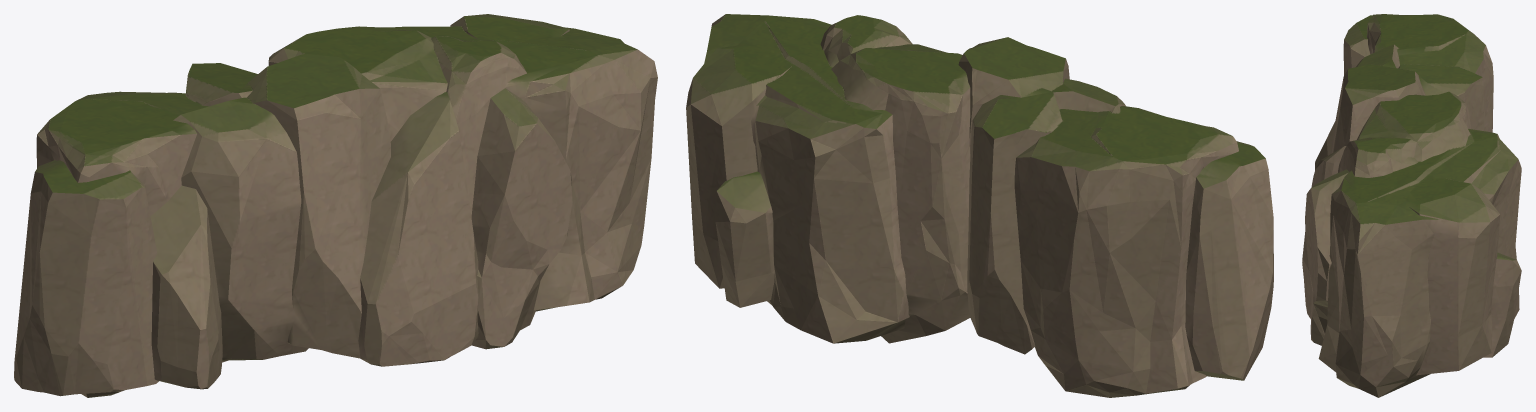
Rendered from SM_Env_Rock_Cliff_03.glb.
3 views of the same model, side by side, from view 1: azimuth 30°, elevation 25°; view 2: azimuth 150°, elevation 25°; view 3: azimuth 270°, elevation 25° (orthographic). The views are drawn at different scales.
Parts seen in each view (by area): view 1: SM_Env_Rock_Cliff_03; view 2: SM_Env_Rock_Cliff_03; view 3: SM_Env_Rock_Cliff_03.
Boxes of the visible parts, box(x1,y1,x2,y2) form: SM_Env_Rock_Cliff_03: box(14, 14, 657, 397); SM_Env_Rock_Cliff_03: box(686, 14, 1273, 397); SM_Env_Rock_Cliff_03: box(1302, 14, 1521, 397).
Bounding box in the file's own units: 22.27 × 10.23 × 9.14.
1 material, 1 textured.
